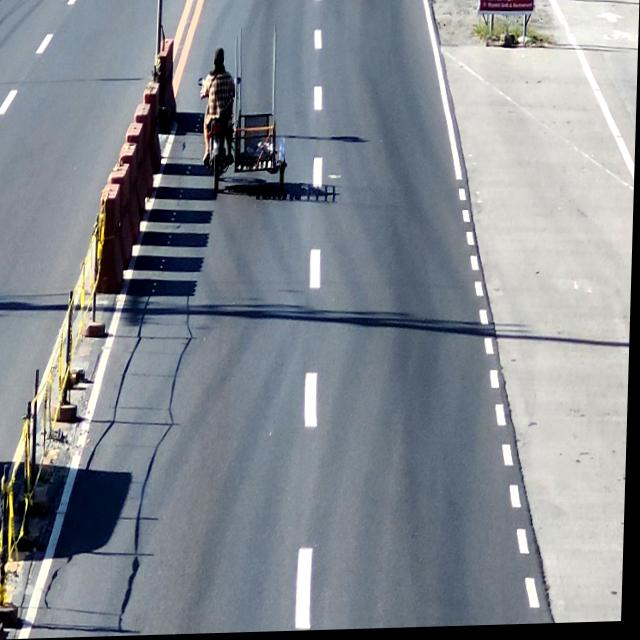Tricycle: (200, 23, 299, 205)
